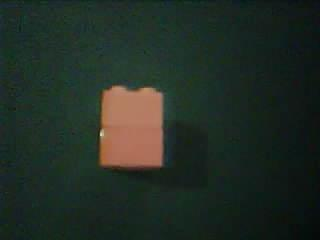lego: (97, 84, 165, 168)
